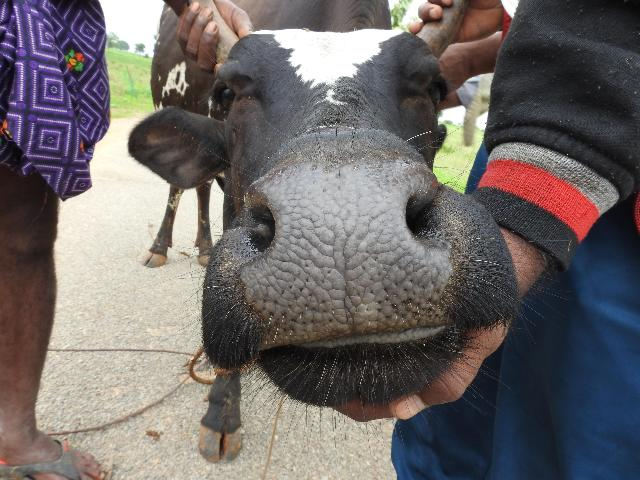Muzzle: (256, 179, 430, 327)
